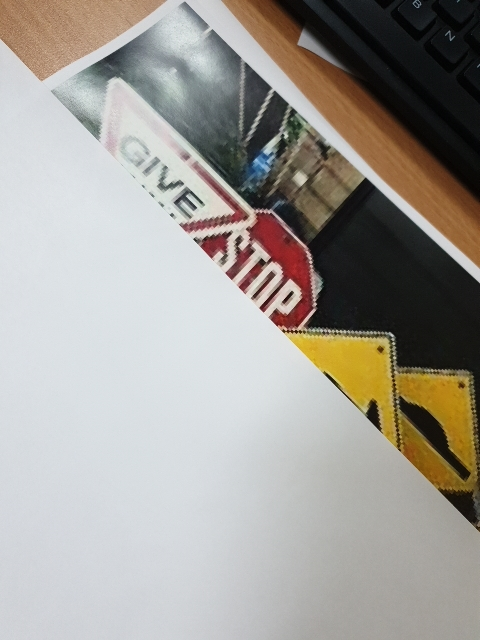giveway: (100, 66, 256, 257)
right: (268, 307, 405, 470)
stop: (198, 202, 329, 335)
